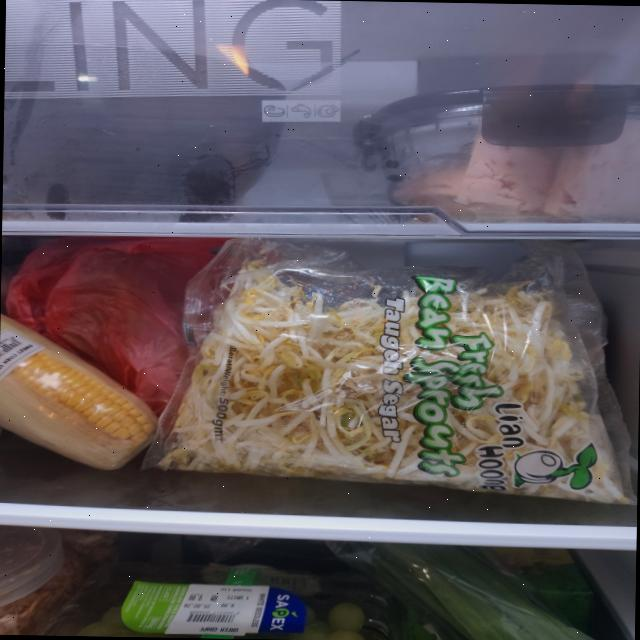bean_sprouts: (156, 252, 634, 505)
corn: (0, 315, 159, 472)
grape: (77, 596, 368, 640)
leafy_greens: (322, 541, 605, 640)
